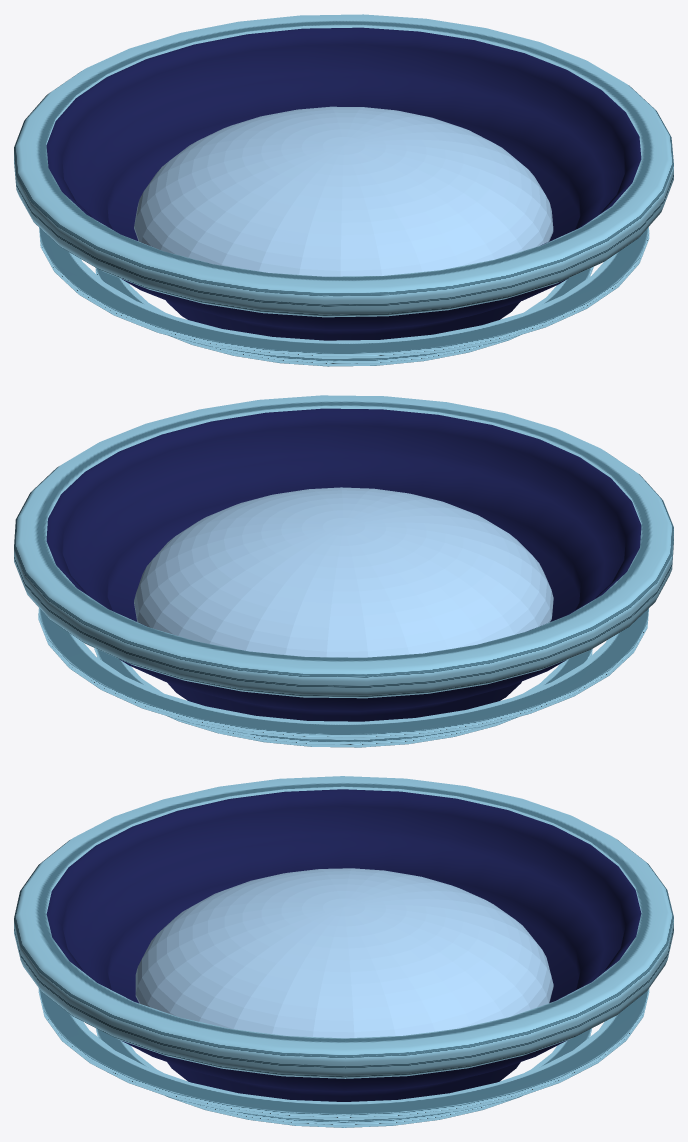
Rendered from BurningSoul.fbx.
The picture shows the model from 3 angles, top to bottom: view 1: azimuth 30°, elevation 25°; view 2: azimuth 150°, elevation 25°; view 3: azimuth 270°, elevation 25°; orthographic projection.
Visible parts, largest first — view 1: Bowl, Ash, Rim.001, Hoop.2, Hoop.1; view 2: Bowl, Ash, Rim.001, Hoop.2, Hoop.1; view 3: Bowl, Ash, Rim.001, Hoop.2, Hoop.1.
Part boxes in pixels (x1,y1,x2,y2): Bowl: (46,27,641,340); Ash: (134,106,553,276); Rim.001: (14,14,673,317); Hoop.2: (39,227,649,359); Hoop.1: (95,267,593,366); Bowl: (46,408,641,721); Ash: (134,487,553,657); Rim.001: (14,395,673,698); Hoop.2: (38,608,648,740); Hoop.1: (94,648,592,747); Bowl: (46,789,641,1101); Ash: (135,868,553,1038); Rim.001: (14,776,673,1078); Hoop.2: (38,988,649,1120); Hoop.1: (95,1028,592,1127).
Bounding box in the file's own units: 292 × 67.8 × 292.
